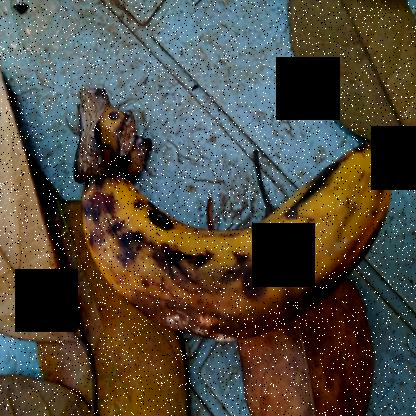overripe: (79, 133, 407, 347)
